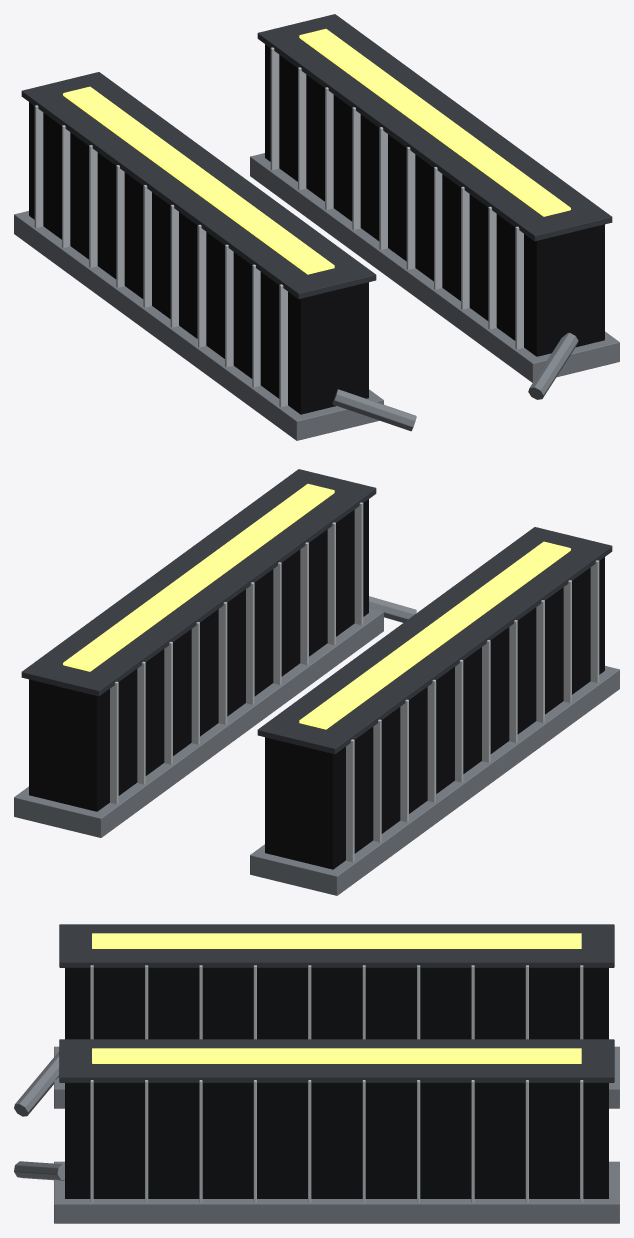
The model's file is vortex_cooling_grid.fbx.
3 renders of one model, top to bottom at view 1: azimuth 30°, elevation 25°; view 2: azimuth 150°, elevation 25°; view 3: azimuth 270°, elevation 25°, orthographic.
Visible parts, largest first — view 1: Cooling_Grid; view 2: Cooling_Grid; view 3: Cooling_Grid.
Boxes of the visible parts, bbox=[...] form: Cooling_Grid: bbox=[14, 14, 619, 440]; Cooling_Grid: bbox=[14, 469, 619, 895]; Cooling_Grid: bbox=[14, 924, 619, 1223].
Size of the model in its own units: 68 by 30.2 by 110.
